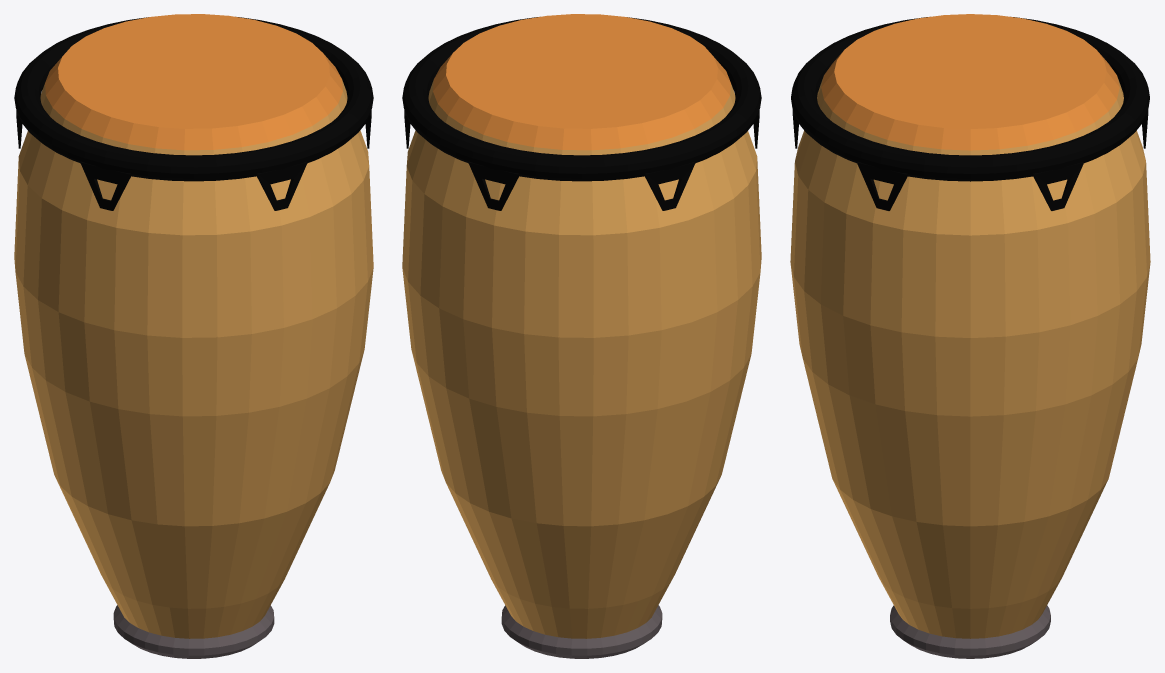
The model's file is Bongo-new.fbx.
3 renders of one model, left to right at view 1: azimuth 30°, elevation 25°; view 2: azimuth 150°, elevation 25°; view 3: azimuth 270°, elevation 25°, orthographic.
Parts seen in each view (by area): view 1: Circle, Torus.001, Cube; view 2: Circle, Torus.001, Cube; view 3: Circle, Torus.001, Cube.
Part boxes in pixels (x1,y1,x2,y2): Circle: (14, 14, 373, 658); Torus.001: (14, 17, 373, 181); Cube: (16, 110, 371, 210); Circle: (402, 14, 761, 658); Torus.001: (402, 17, 761, 181); Cube: (404, 110, 759, 210); Circle: (790, 14, 1150, 658); Torus.001: (791, 17, 1149, 181); Cube: (792, 109, 1148, 210).
Bounding box in the file's own units: 221 × 376 × 221.
